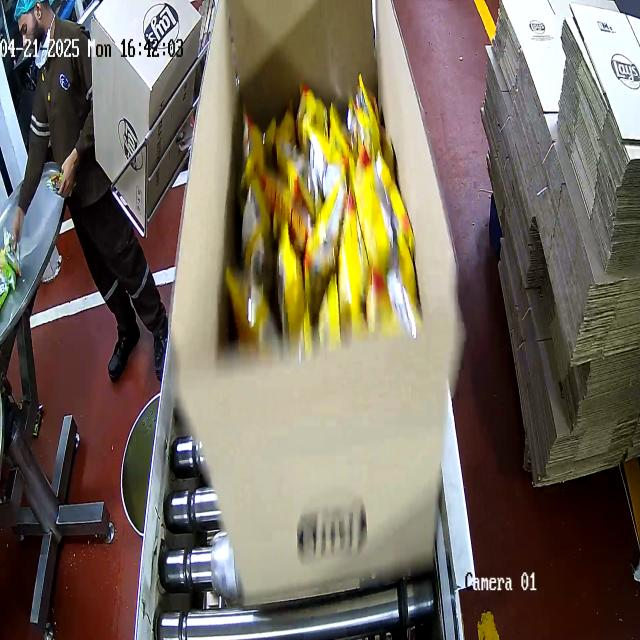SALTED: (232, 72, 405, 342)
